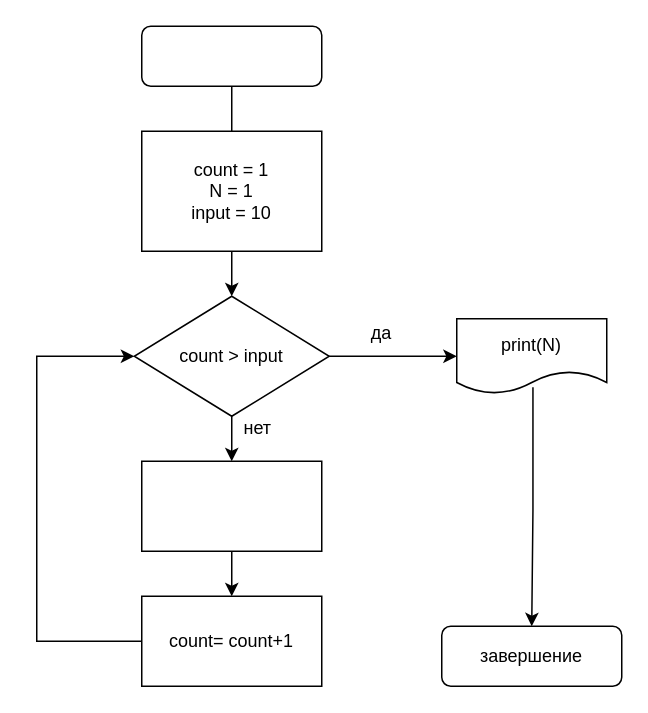
The diagram is 648 pixels wide and 713 high, and some of its shapes have lost their labels. The shapes that lost their labels are listed below. From the top down, each one's centre as x and y in pixels, then its label:
At point 231,55: "начало".
At point 231,505: "N = N*count".
